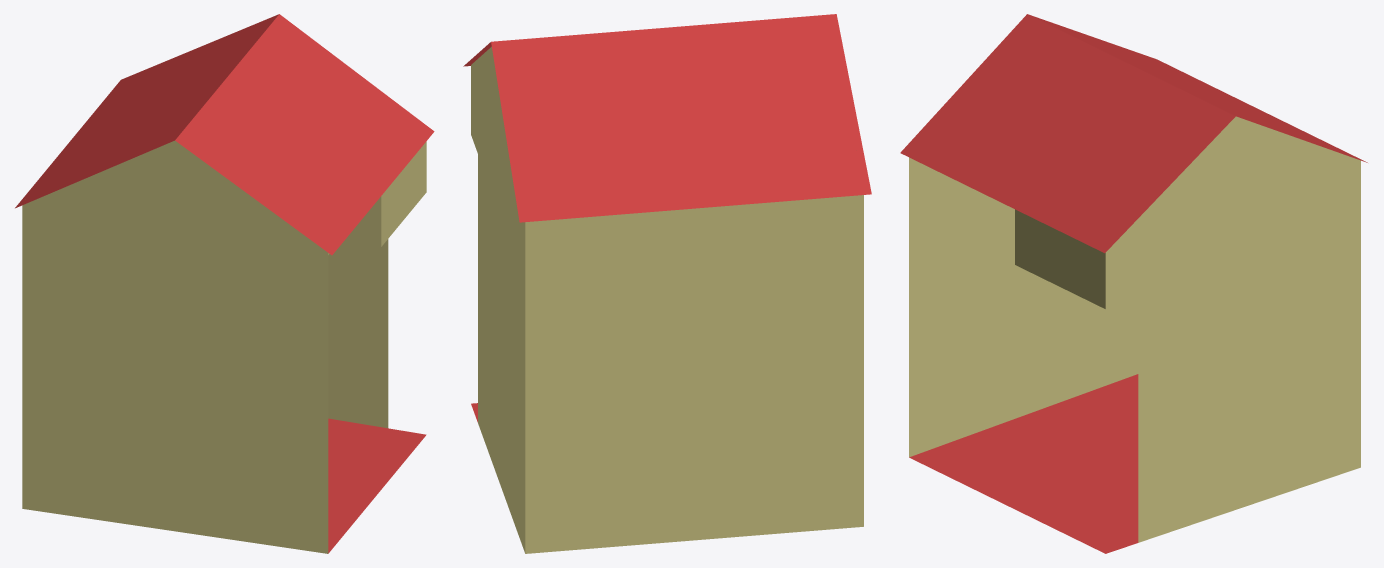
3 views of the same model, side by side, from view 1: azimuth 30°, elevation 25°; view 2: azimuth 150°, elevation 25°; view 3: azimuth 270°, elevation 25° (orthographic). The views are drawn at different scales.
Size of the model in its own units: 18.37 by 18.8 by 17.52.
